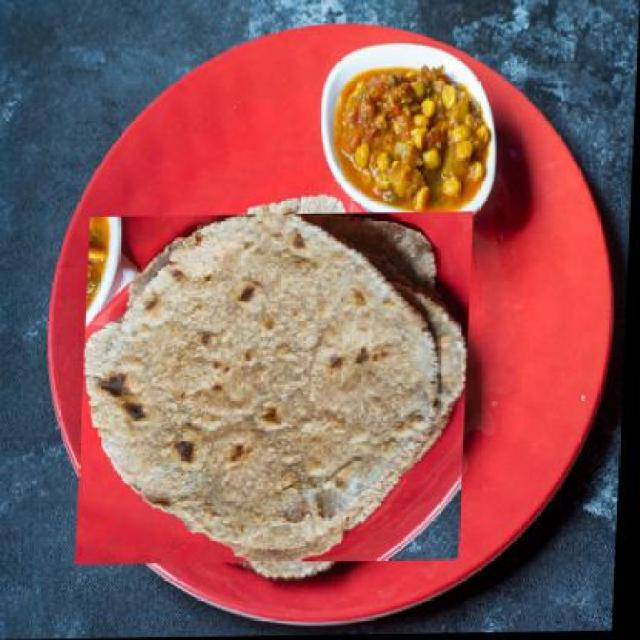chapati: (88, 203, 469, 574)
